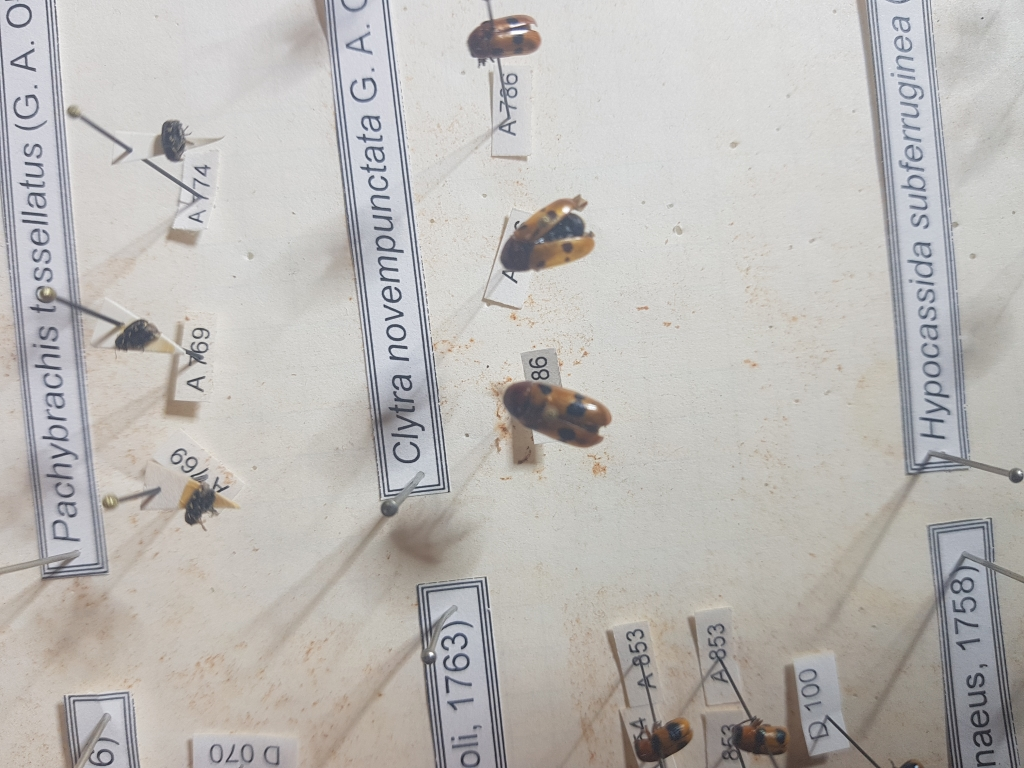Clytra_novempunctata: (493, 190, 599, 281), (496, 379, 617, 450), (463, 13, 546, 65)
